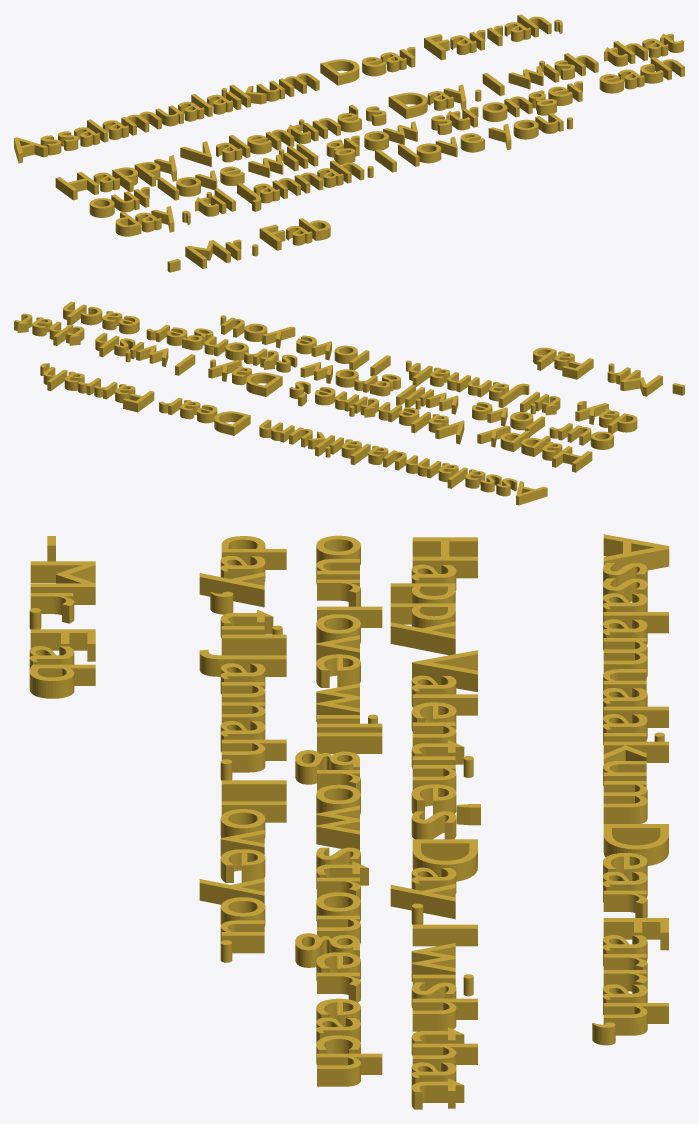
File: message.gltf
3 renders of one model, top to bottom at view 1: azimuth 30°, elevation 25°; view 2: azimuth 150°, elevation 25°; view 3: azimuth 270°, elevation 25°, orthographic. The views are drawn at different scales.
Visible parts, largest first — view 1: Text; view 2: Text; view 3: Text.
Part boxes in pixels (left/top/right/bottom): Text: left=14, top=14, right=684, bottom=272; Text: left=14, top=301, right=684, bottom=505; Text: left=29, top=534, right=669, bottom=1109.
Bounding box in the file's own units: 5.08 × 0.0751 × 2.46.
